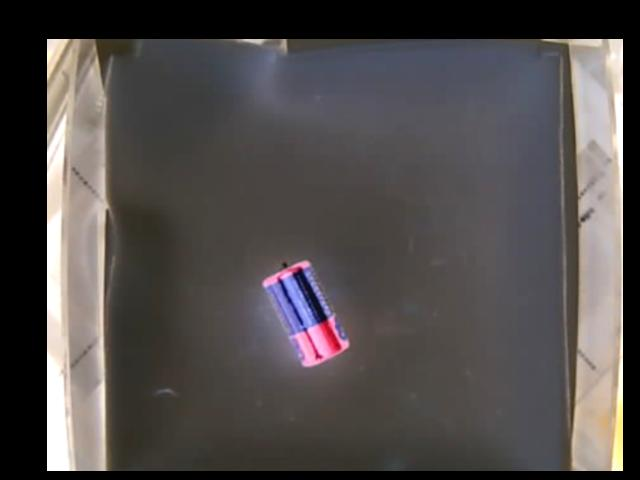Battery: (262, 258, 351, 366)
